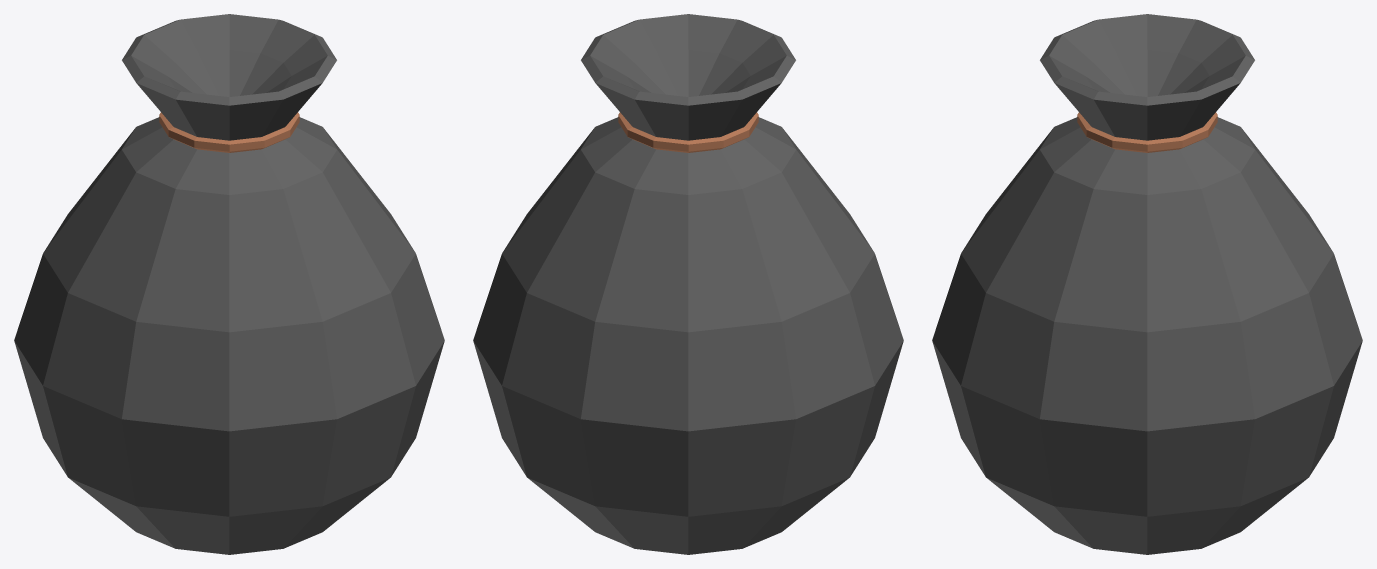
File: SmallBag.fbx
The picture shows the model from 3 angles, left to right: view 1: azimuth 30°, elevation 25°; view 2: azimuth 150°, elevation 25°; view 3: azimuth 270°, elevation 25°; orthographic projection.
Visible parts, largest first — view 1: SmallBag; view 2: SmallBag; view 3: SmallBag.
Part boxes in pixels (x1,y1,x2,y2): SmallBag: (14,14,444,554); SmallBag: (473,14,903,554); SmallBag: (932,14,1362,554).
Bounding box in the file's own units: 18.81 × 23.13 × 18.81.
Materials: 1 (1 with a texture image).
